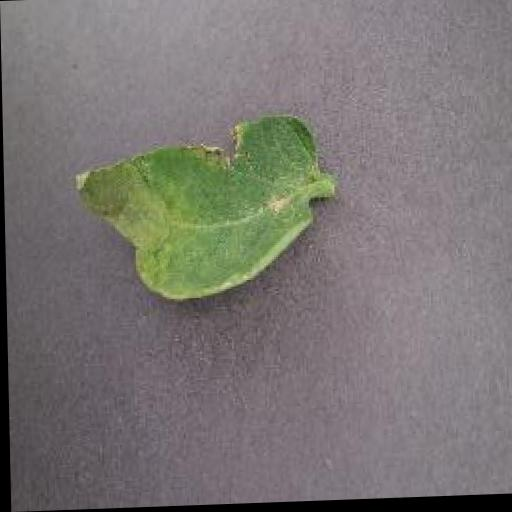Late Blight: (73, 117, 326, 304)
